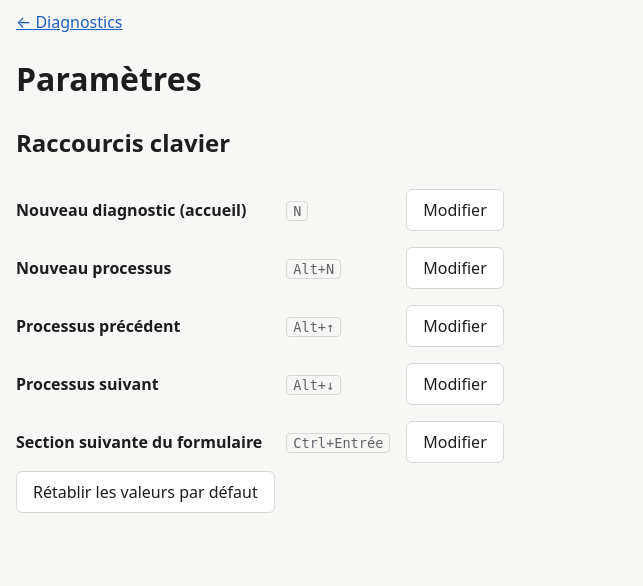
Scenario: Paramètres › annule la modification avec Échap
Click the button "Modifier" in the row of "Nouveau processus" at (455, 268), box [406,247,504,289]
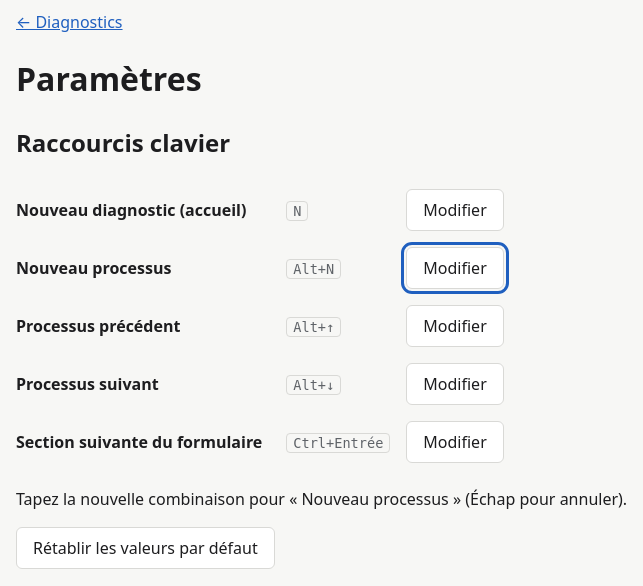
Press Escape
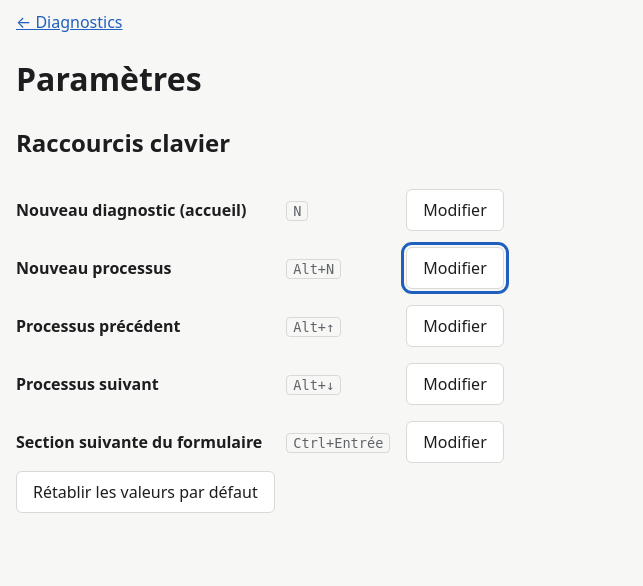
Expected: the text "Alt+N" is shown, [286,259,341,279]
Expected: the message "Tapez la nouvelle combinaison pour « Nouveau processus » (Échap pour annuler)." is gone
